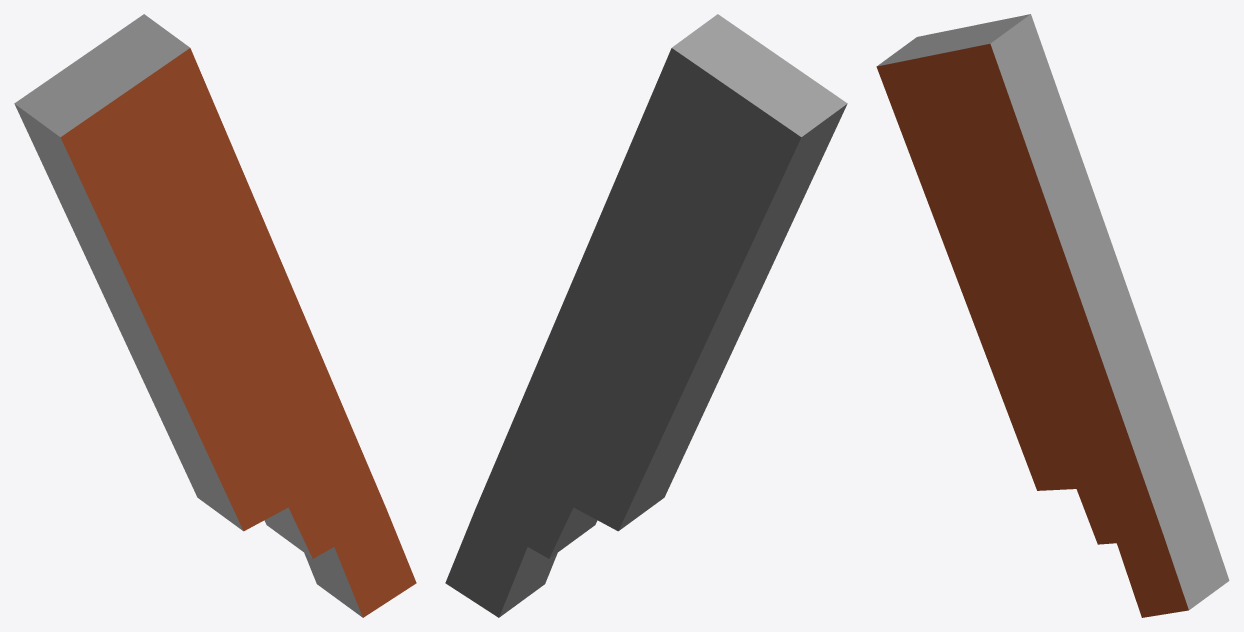
Rendered from construction_6422_assumed_A_Casa_h6m.obj.
The picture shows the model from 3 angles, left to right: view 1: azimuth 30°, elevation 25°; view 2: azimuth 150°, elevation 25°; view 3: azimuth 330°, elevation 25°; orthographic projection. The views are drawn at different scales.
Parts seen in each view (by area): view 1: construction_6422_assumed_A_Casa; view 2: construction_6422_assumed_A_Casa; view 3: construction_6422_assumed_A_Casa.
Boxes of the visible parts, x1,y1,x2,y2 form: construction_6422_assumed_A_Casa: (14, 14, 416, 617); construction_6422_assumed_A_Casa: (445, 14, 847, 617); construction_6422_assumed_A_Casa: (876, 14, 1229, 617).
Bounding box in the file's own units: 26.69 × 43.85 × 6.
